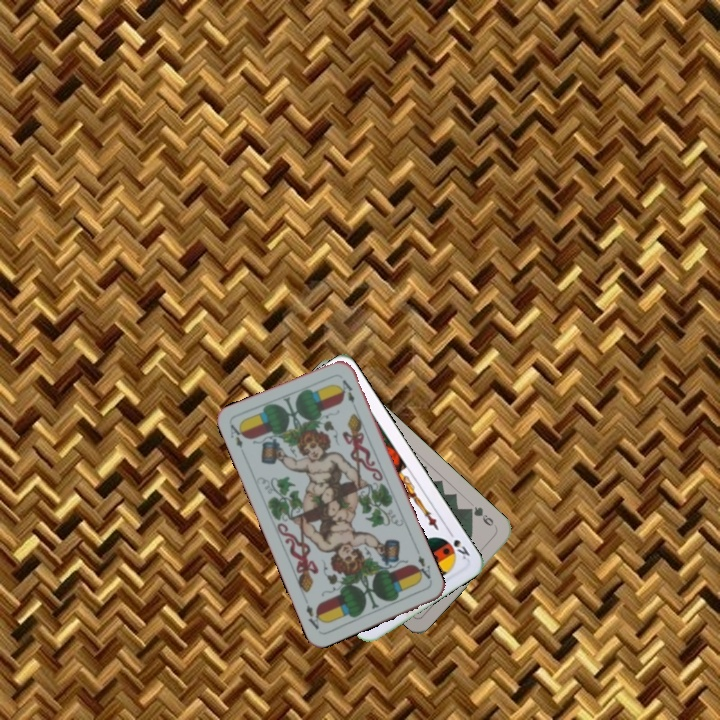EA: (411, 551, 435, 585), (226, 421, 248, 451)
G9: (463, 502, 500, 531)
SK: (444, 526, 473, 562)
